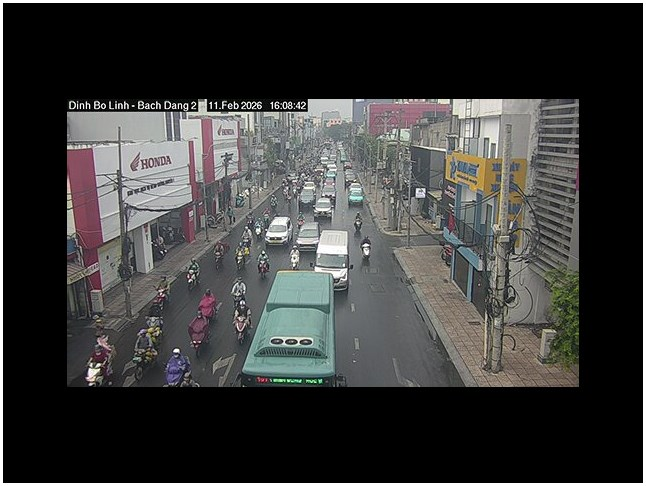bus: (240, 269, 341, 385)
car: (265, 216, 294, 244)
